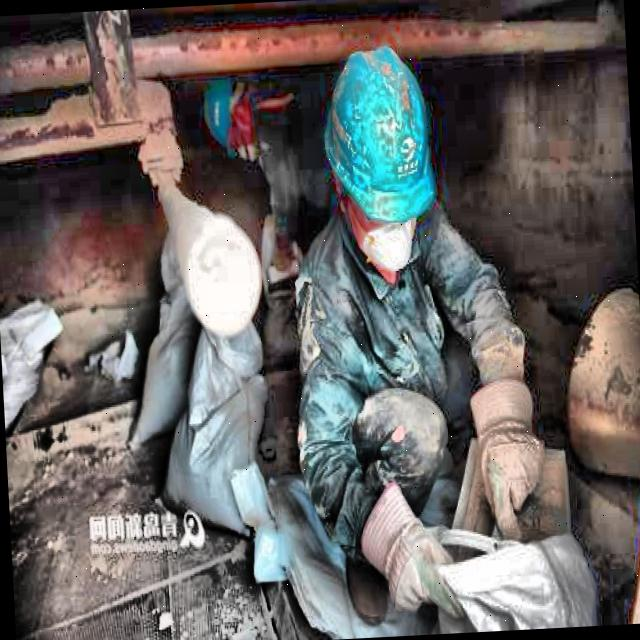helmet: (306, 27, 449, 288), (196, 72, 268, 168)
